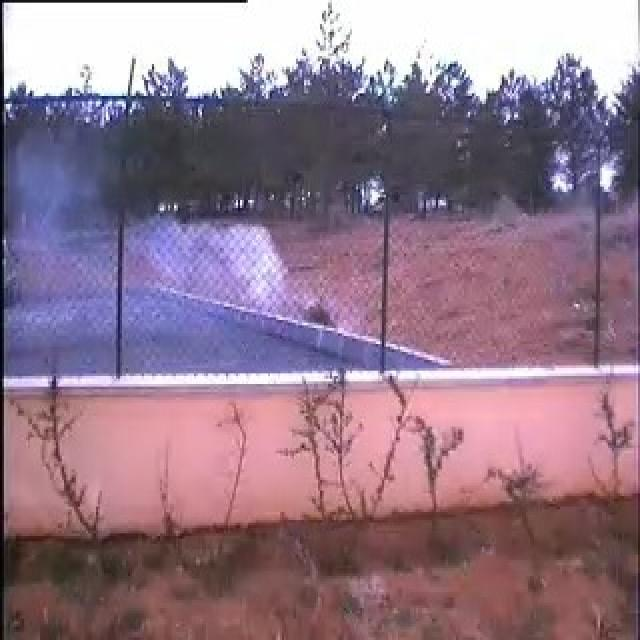smoke: (55, 160, 315, 371)
